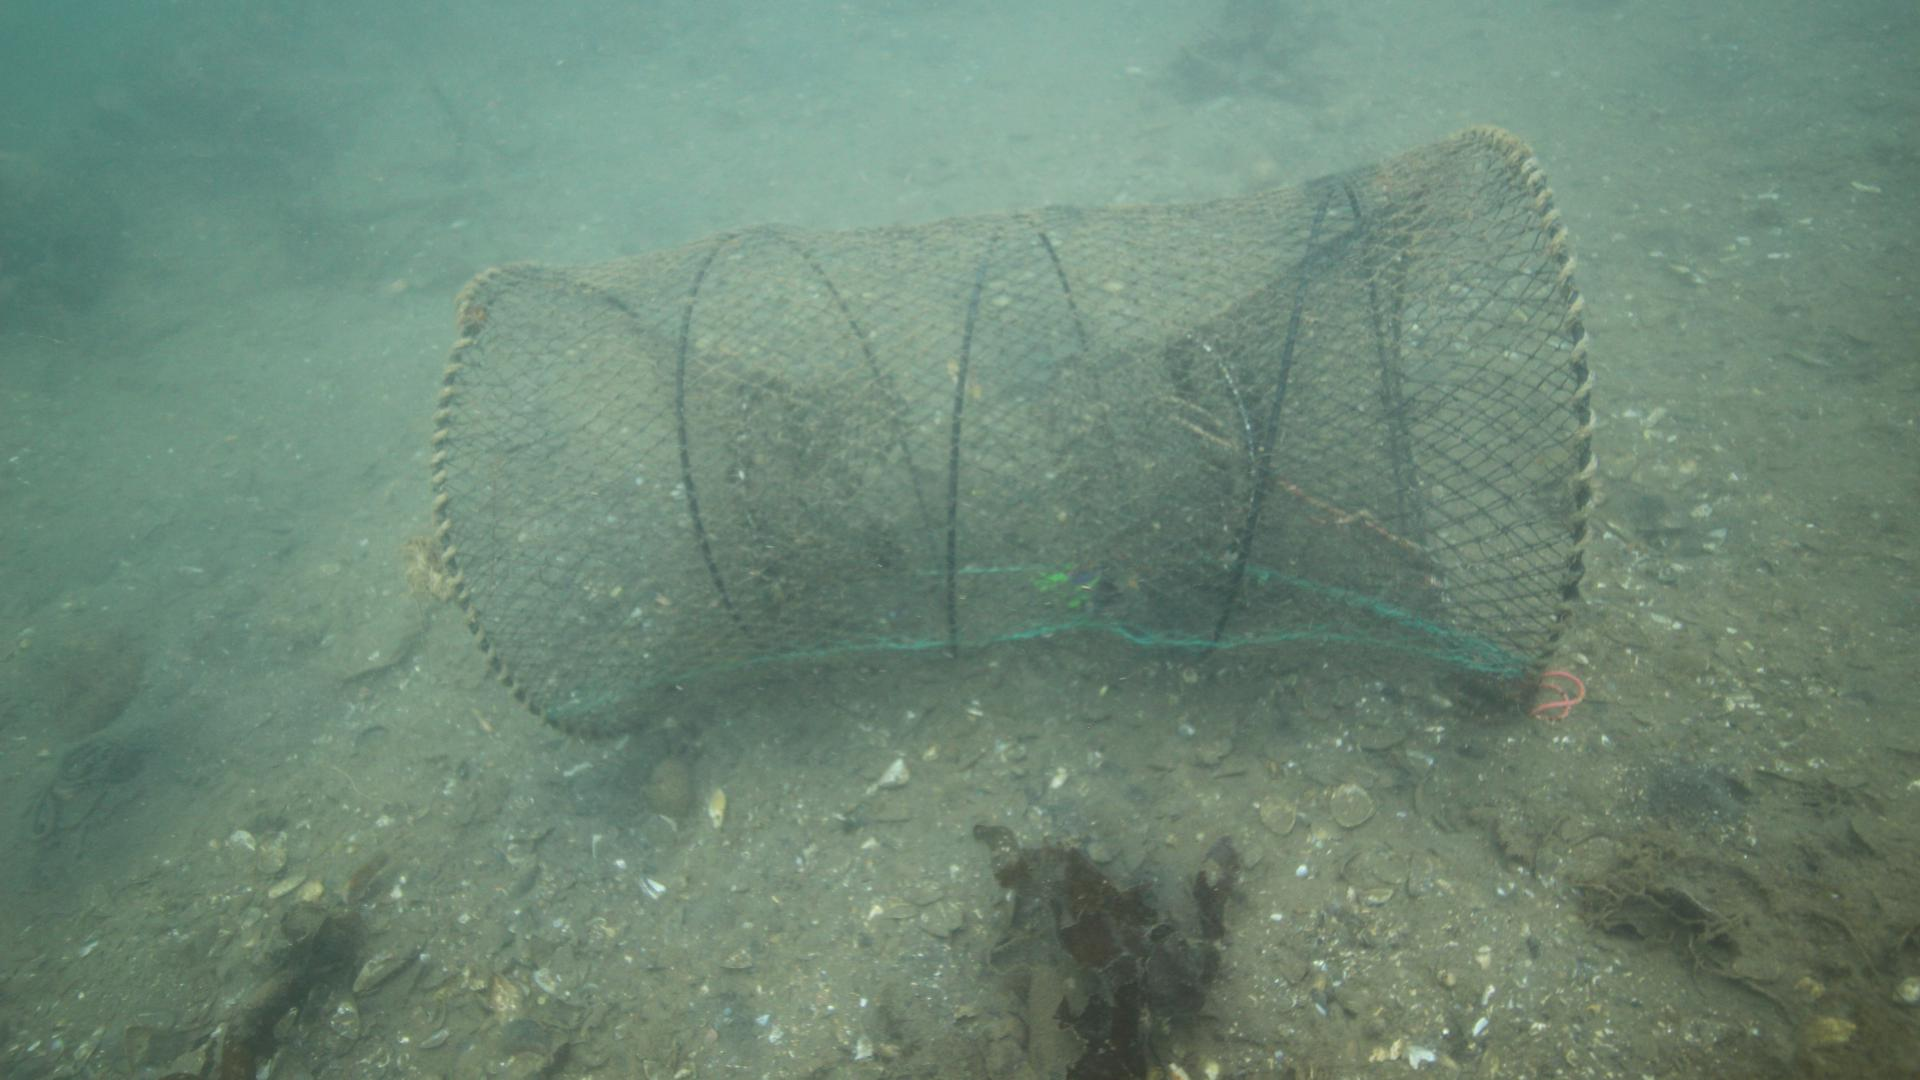spring fish trap: (425, 117, 1596, 746)
